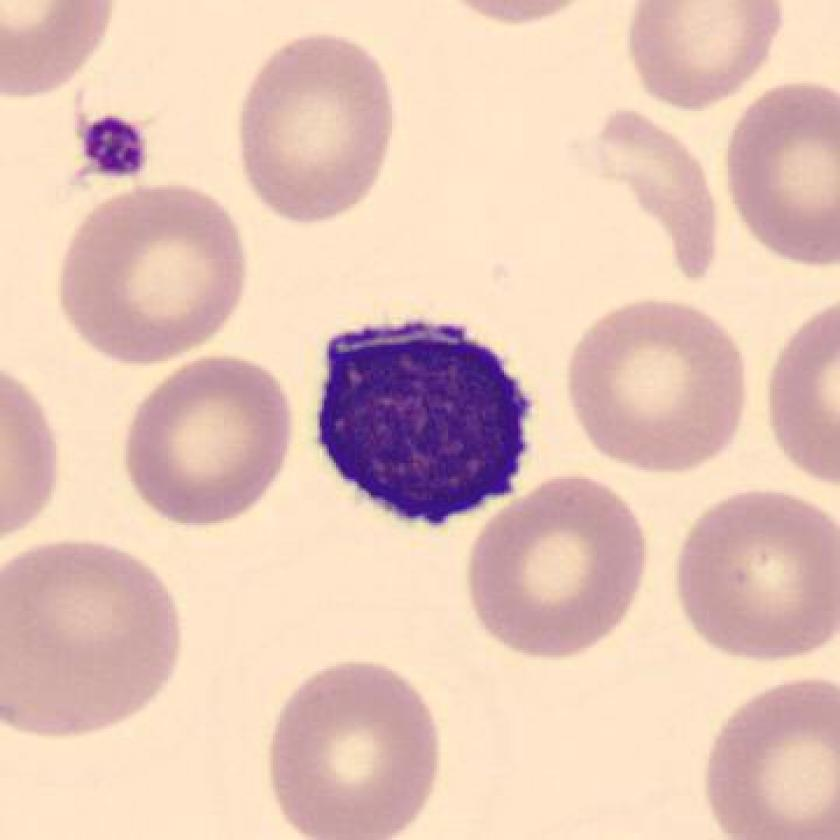lymphocyte: (302, 302, 549, 540)
